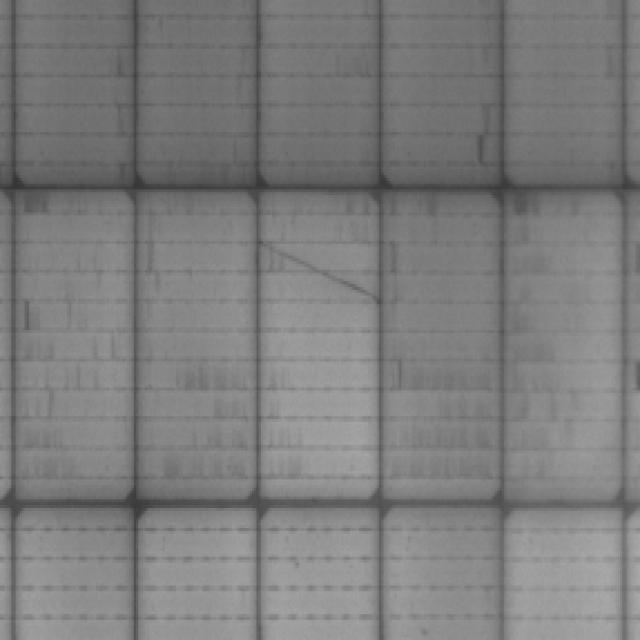CRACK: (258, 222, 384, 326)
